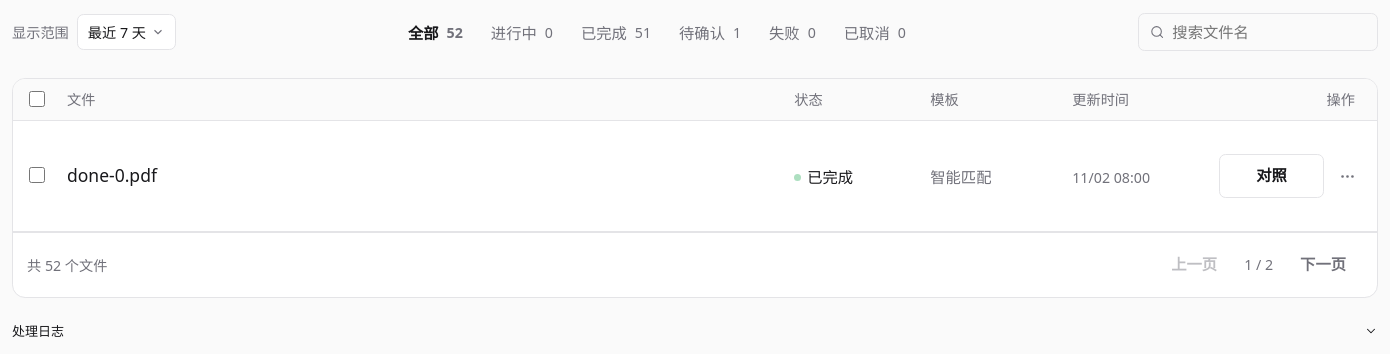
Test case: independent task-list result checks › keeps the newly selected pending page when an old next-page request returns late
The image size is (1390, 354).
expect the text "done-0.pdf" is shown: met, box [67, 163, 157, 187]
Click the button "下一页" at [1323, 264], box [1283, 242, 1363, 286]
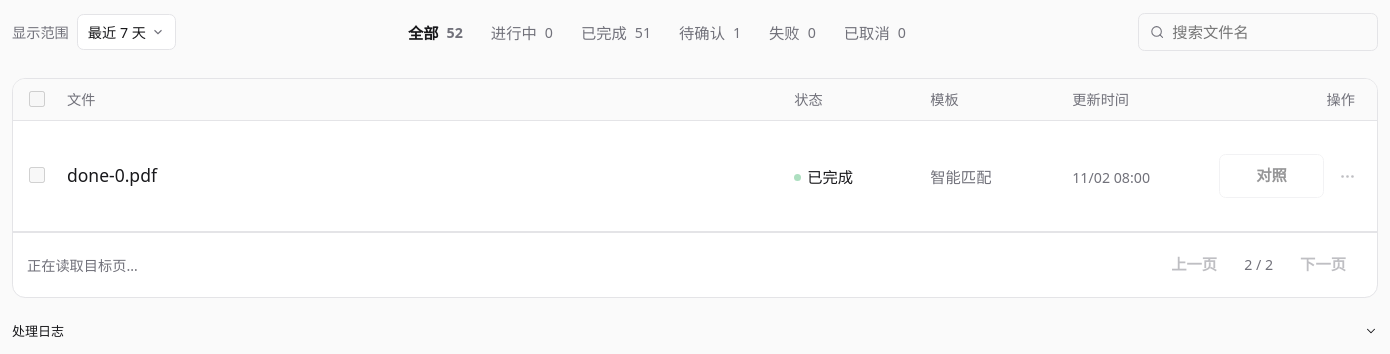
Click the button "待确认 1" at [710, 32], box [667, 12, 753, 52]
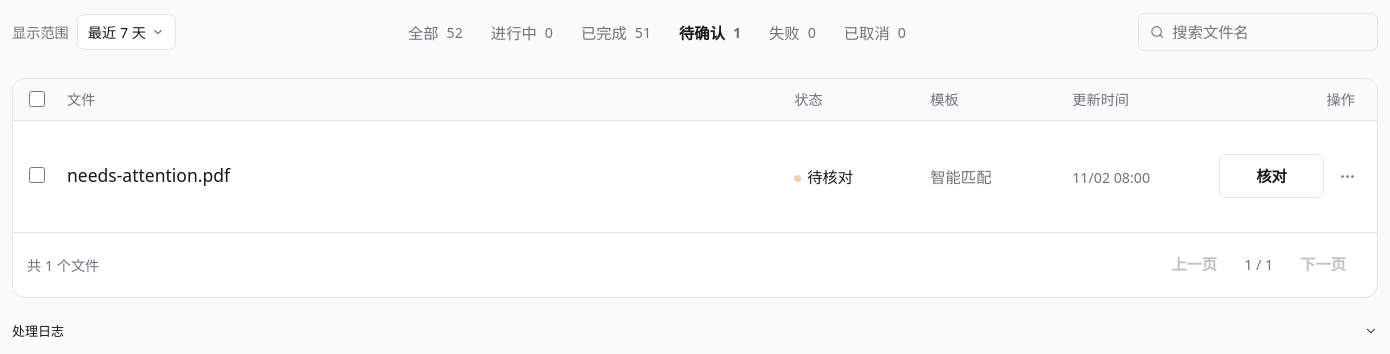
expect the text "needs-attention.pdf" is shown: met, box [67, 163, 230, 187]
expect the button with aria-label "核对 needs-attention.pdf" is enabled: met, box [1219, 154, 1324, 198]
